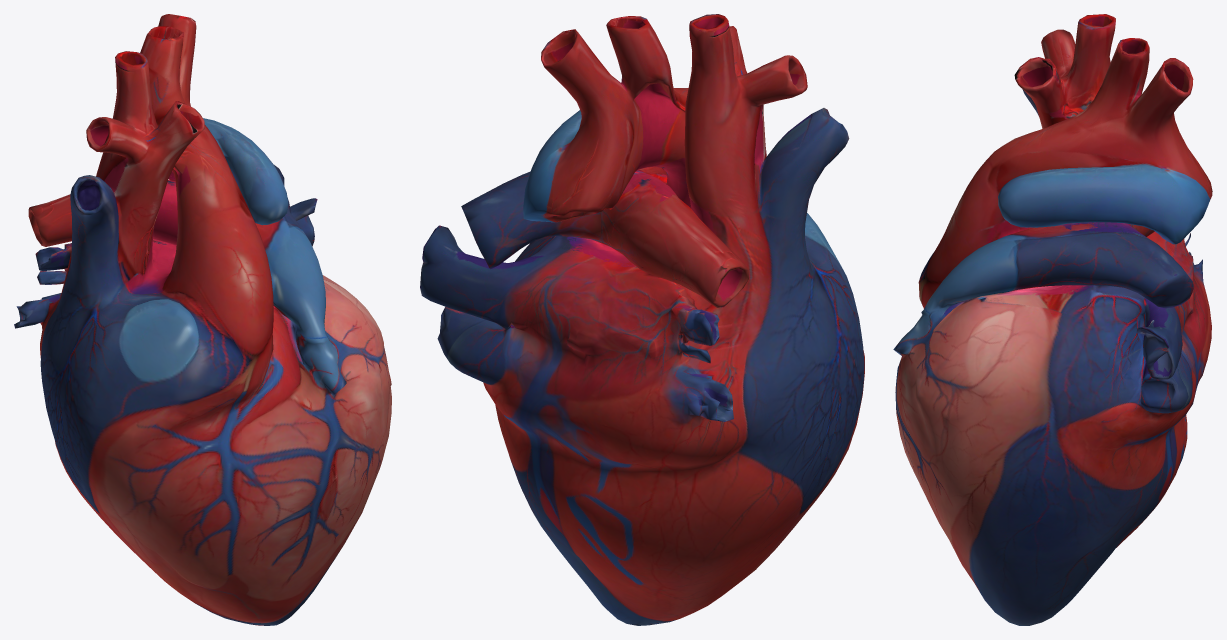
The model's file is static-heart.glb.
The picture shows the model from 3 angles, left to right: view 1: azimuth 30°, elevation 25°; view 2: azimuth 150°, elevation 25°; view 3: azimuth 270°, elevation 25°; orthographic projection. The views are drawn at different scales.
Bounding box in the file's own units: 1.13 × 2 × 1.04.
1 material, 1 textured.
